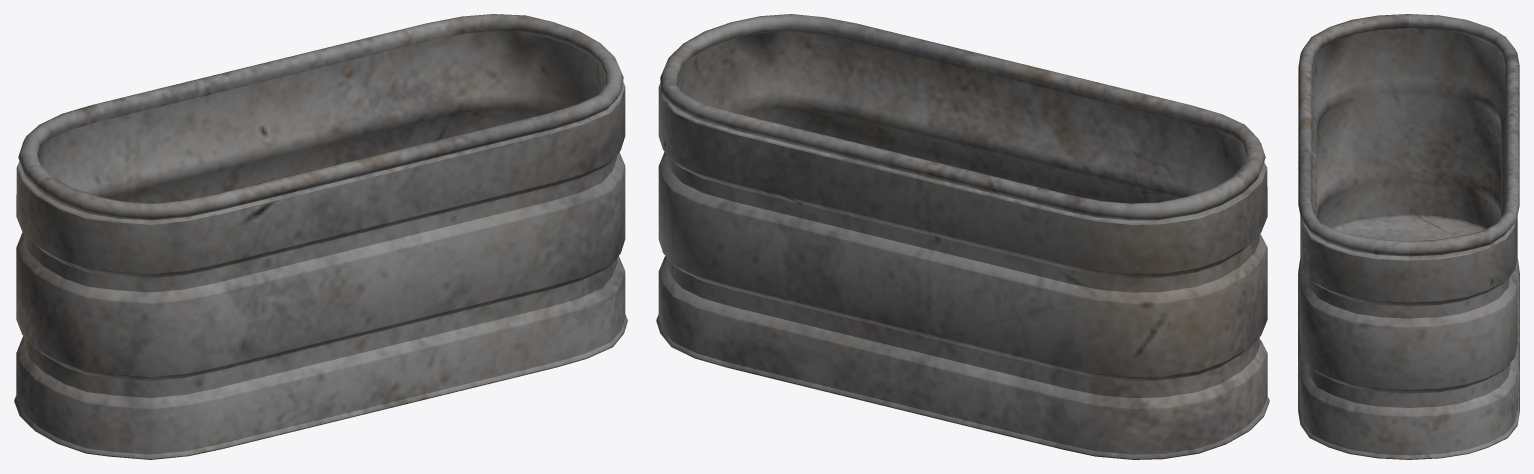
The model's file is SM_FAR_CowTrough_Round_01.fbx.
The picture shows the model from 3 angles, left to right: view 1: azimuth 30°, elevation 25°; view 2: azimuth 150°, elevation 25°; view 3: azimuth 270°, elevation 25°; orthographic projection. The views are drawn at different scales.
Parts seen in each view (by area): view 1: SM_FAR_CowTrough_Round_01.mo; view 2: SM_FAR_CowTrough_Round_01.mo; view 3: SM_FAR_CowTrough_Round_01.mo.
Part boxes in pixels (x1=…): SM_FAR_CowTrough_Round_01.mo: x1=14, y1=14, x2=627, y2=459; SM_FAR_CowTrough_Round_01.mo: x1=656, y1=14, x2=1269, y2=459; SM_FAR_CowTrough_Round_01.mo: x1=1298, y1=14, x2=1519, y2=459.
Size of the model in its own units: 202 by 84.84 by 79.97.
